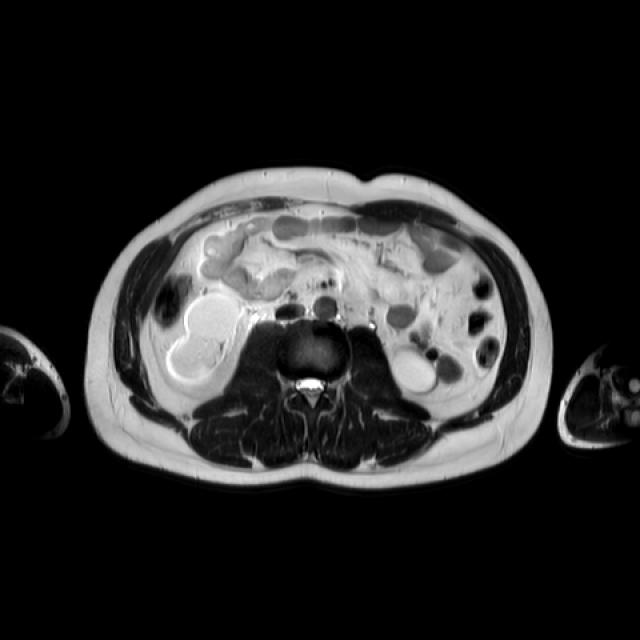sag: (164, 291, 243, 388)
sol: (388, 344, 440, 394)
